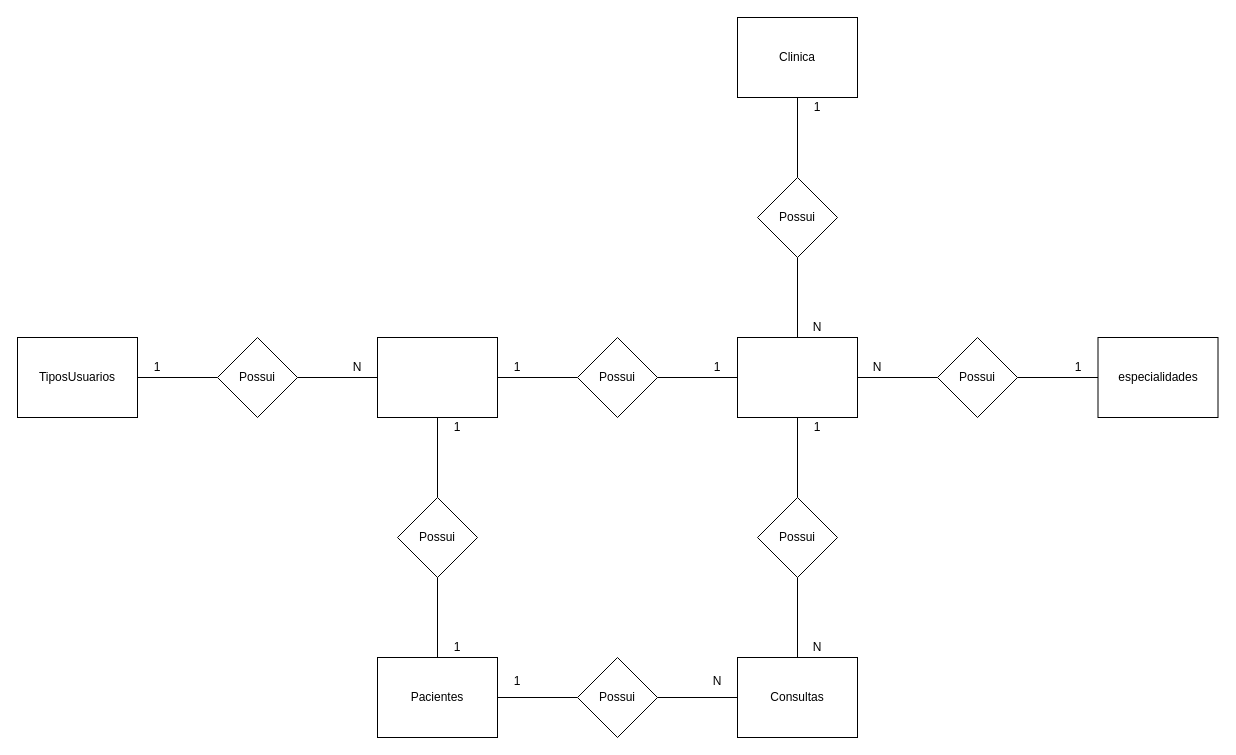
Image size: 1236x755. Some labels were removed from this diagram. Here are the shapes that lost their labels. From the top down, the centre of each, then its label:
At pixel 437 377: "Usuarios".
At pixel 797 377: "Médicos".
